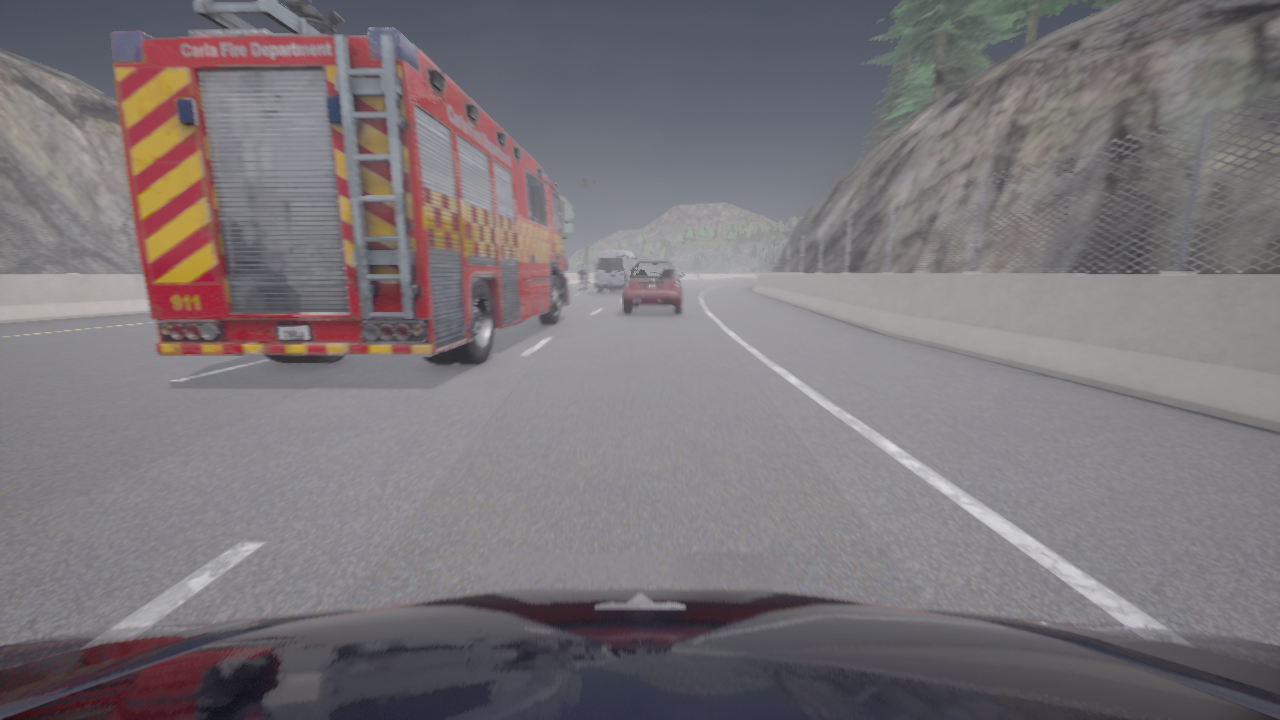cyclist: (111, 0, 573, 364), (0, 588, 1279, 719), (623, 260, 682, 314), (594, 250, 636, 293), (579, 279, 586, 288)
